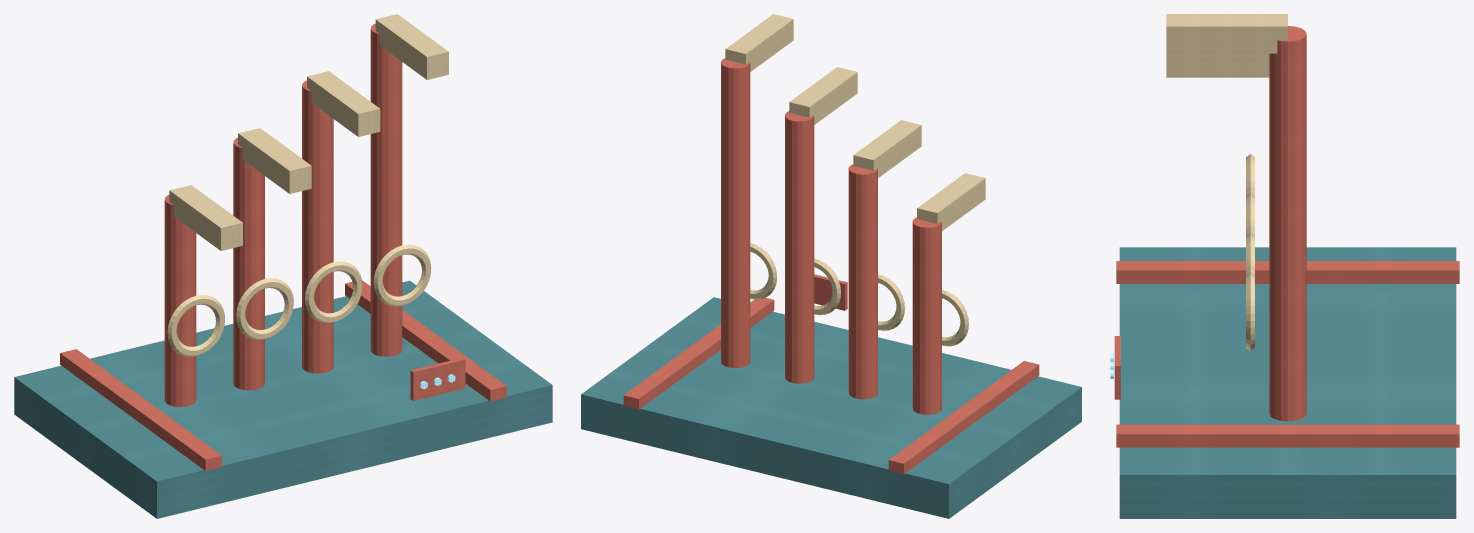
File: atlas100-s074-a01.glb
3 views of the same model, side by side, from view 1: azimuth 30°, elevation 25°; view 2: azimuth 150°, elevation 25°; view 3: azimuth 270°, elevation 25° (orthographic). The views are drawn at different scales.
Visible parts, largest first — view 1: atlas100-s074-a01:part-000, atlas100-s074-a01:part-012, atlas100-s074-a01:part-009, atlas100-s074-a01:part-006, atlas100-s074-a01:part-003, atlas100-s074-a01:part-001, atlas100-s074-a01:part-002, atlas100-s074-a01:part-008, atlas100-s074-a01:part-011, atlas100-s074-a01:part-014, atlas100-s074-a01:part-005, atlas100-s074-a01:part-015 (+4 smaller); view 2: atlas100-s074-a01:part-000, atlas100-s074-a01:part-012, atlas100-s074-a01:part-009, atlas100-s074-a01:part-006, atlas100-s074-a01:part-003, atlas100-s074-a01:part-001, atlas100-s074-a01:part-002, atlas100-s074-a01:part-005, atlas100-s074-a01:part-008, atlas100-s074-a01:part-011, atlas100-s074-a01:part-014, atlas100-s074-a01:part-015 (+4 smaller); view 3: atlas100-s074-a01:part-000, atlas100-s074-a01:part-012, atlas100-s074-a01:part-002, atlas100-s074-a01:part-001, atlas100-s074-a01:part-014, atlas100-s074-a01:part-005, atlas100-s074-a01:part-008, atlas100-s074-a01:part-011, atlas100-s074-a01:part-013, atlas100-s074-a01:part-015.
Boxes of the visible parts, left/top/right/bottom form: atlas100-s074-a01:part-000: left=14, top=280, right=552, bottom=518; atlas100-s074-a01:part-012: left=370, top=23, right=402, bottom=356; atlas100-s074-a01:part-009: left=302, top=80, right=333, bottom=373; atlas100-s074-a01:part-006: left=233, top=137, right=264, bottom=390; atlas100-s074-a01:part-003: left=164, top=195, right=196, bottom=406; atlas100-s074-a01:part-001: left=60, top=349, right=221, bottom=470; atlas100-s074-a01:part-002: left=345, top=280, right=506, bottom=401; atlas100-s074-a01:part-008: left=238, top=128, right=311, bottom=193; atlas100-s074-a01:part-011: left=307, top=71, right=380, bottom=136; atlas100-s074-a01:part-014: left=375, top=14, right=448, bottom=79; atlas100-s074-a01:part-005: left=169, top=185, right=242, bottom=250; atlas100-s074-a01:part-015: left=410, top=357, right=465, bottom=400; atlas100-s074-a01:part-000: left=581, top=297, right=1081, bottom=518; atlas100-s074-a01:part-012: left=721, top=58, right=750, bottom=367; atlas100-s074-a01:part-009: left=785, top=111, right=814, bottom=383; atlas100-s074-a01:part-006: left=848, top=164, right=877, bottom=399; atlas100-s074-a01:part-003: left=912, top=217, right=941, bottom=414; atlas100-s074-a01:part-001: left=888, top=361, right=1039, bottom=474; atlas100-s074-a01:part-002: left=623, top=298, right=774, bottom=409; atlas100-s074-a01:part-005: left=917, top=173, right=985, bottom=230; atlas100-s074-a01:part-008: left=853, top=120, right=921, bottom=177; atlas100-s074-a01:part-011: left=789, top=67, right=857, bottom=124; atlas100-s074-a01:part-014: left=725, top=14, right=793, bottom=71; atlas100-s074-a01:part-015: left=814, top=274, right=847, bottom=310; atlas100-s074-a01:part-000: left=1119, top=247, right=1456, bottom=518; atlas100-s074-a01:part-012: left=1269, top=26, right=1306, bottom=421; atlas100-s074-a01:part-002: left=1116, top=424, right=1459, bottom=447; atlas100-s074-a01:part-001: left=1116, top=261, right=1459, bottom=283; atlas100-s074-a01:part-014: left=1166, top=14, right=1287, bottom=53; atlas100-s074-a01:part-005: left=1166, top=69, right=1269, bottom=77; atlas100-s074-a01:part-008: left=1166, top=61, right=1269, bottom=69; atlas100-s074-a01:part-011: left=1166, top=53, right=1269, bottom=61; atlas100-s074-a01:part-013: left=1246, top=272, right=1254, bottom=350; atlas100-s074-a01:part-015: left=1114, top=336, right=1120, bottom=399.
Bounding box in the file's own units: 2.88 × 2.62 × 1.87.
Materials: 4 (4 with a texture image).
